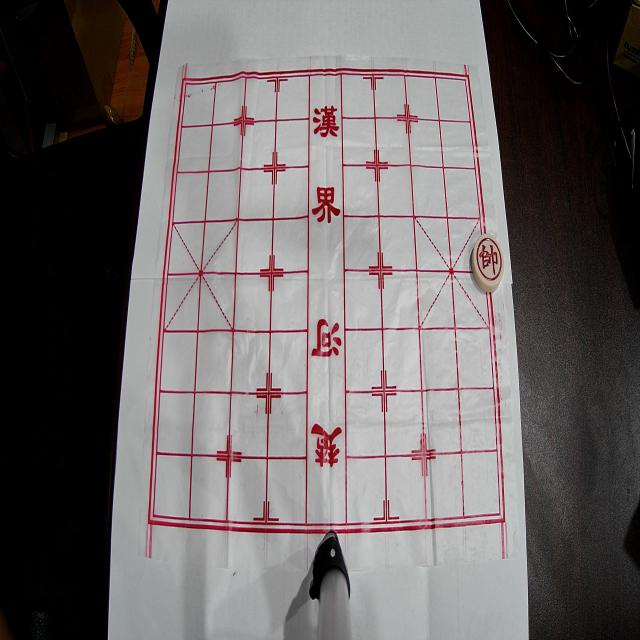red-general: (472, 234, 504, 292)
